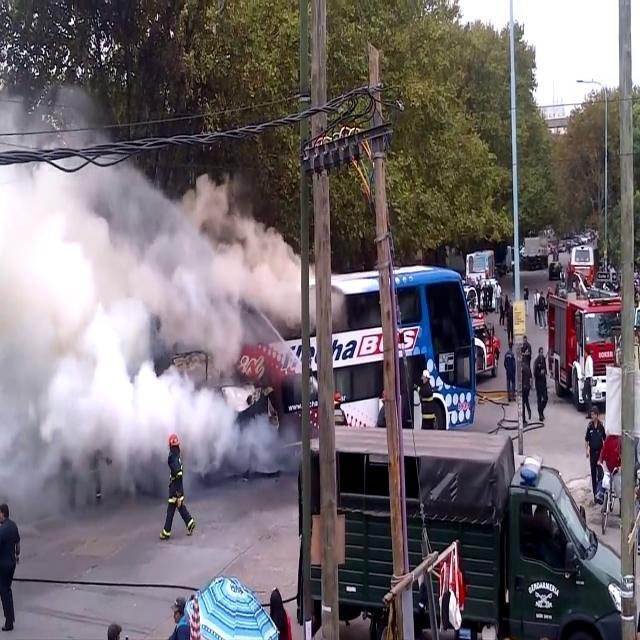Smoke: (0, 76, 286, 522), (1, 75, 286, 378)
